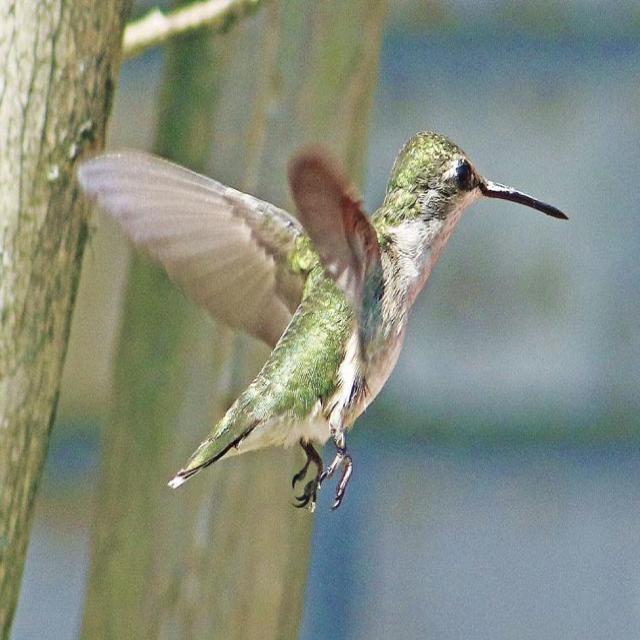Humming Bird: (79, 124, 559, 502)
